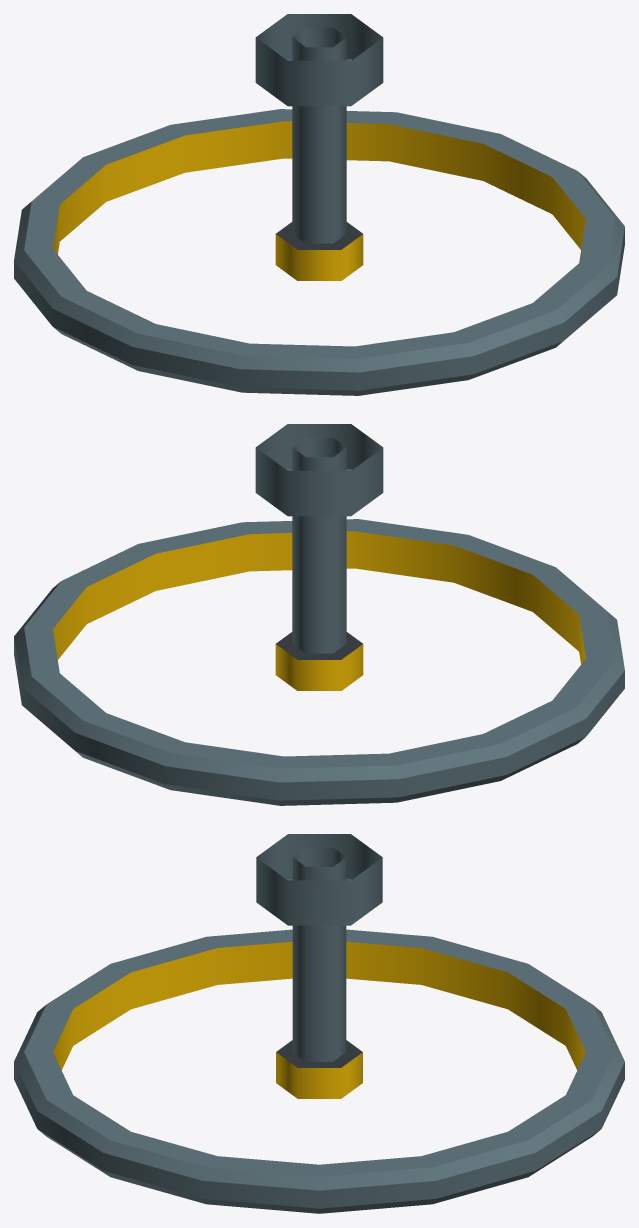
Rendered from Armchair_004.fbx.
The picture shows the model from 3 angles, top to bottom: view 1: azimuth 30°, elevation 25°; view 2: azimuth 150°, elevation 25°; view 3: azimuth 270°, elevation 25°; orthographic projection.
Parts seen in each view (by area): view 1: Armchair_004; view 2: Armchair_004; view 3: Armchair_004.
Boxes of the visible parts, x1,y1,x2,y2 form: Armchair_004: (14,14,624,395); Armchair_004: (14,424,624,805); Armchair_004: (14,834,624,1213).
Size of the model in its own units: 79.98 by 79.98 by 33.47.
